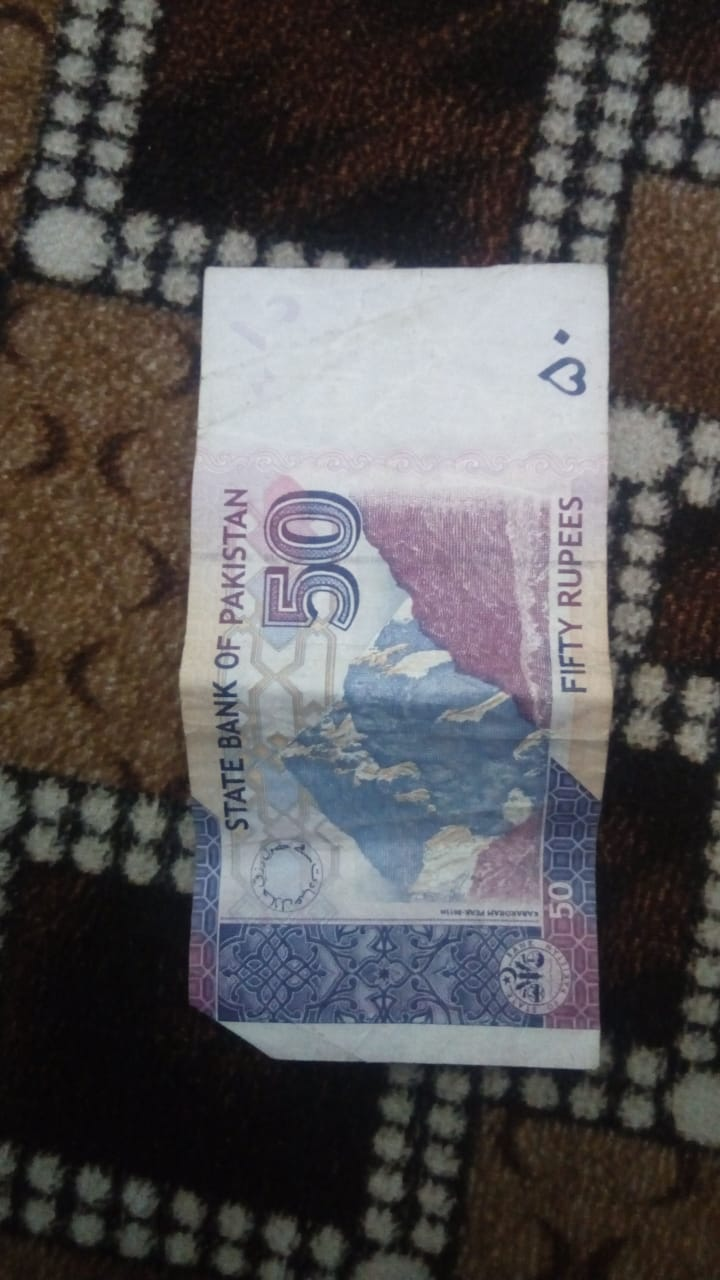50 rupee: (142, 229, 630, 1144)
